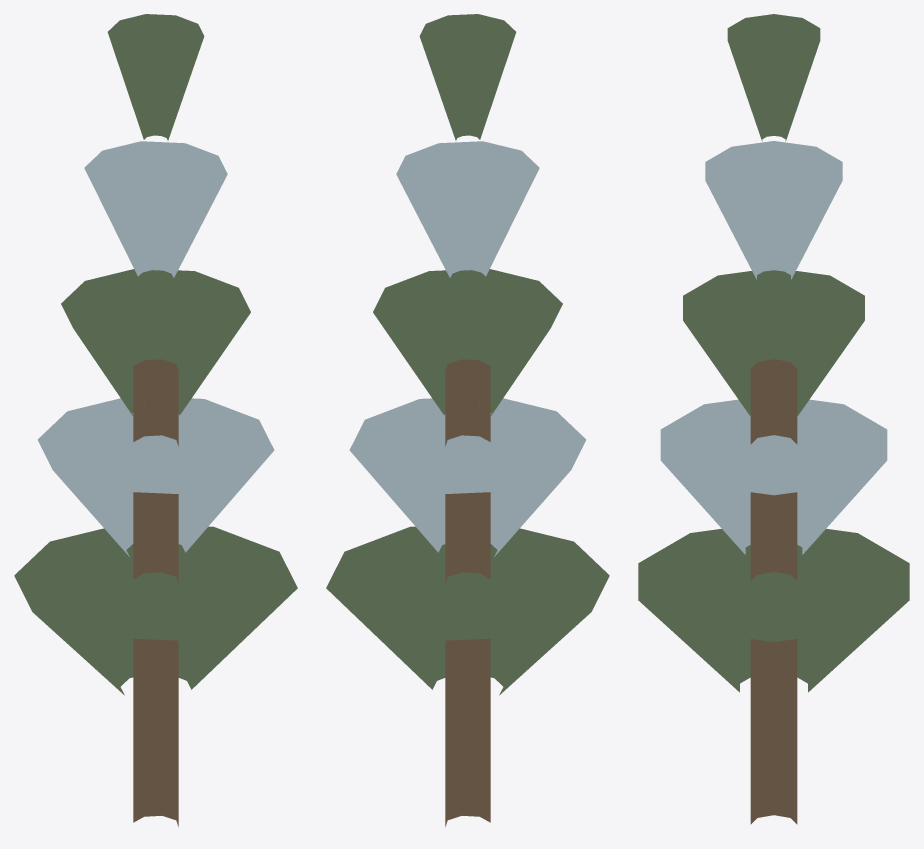
The model's file is p_tree_spruce.glb.
3 renders of one model, left to right at view 1: azimuth 30°, elevation 25°; view 2: azimuth 150°, elevation 25°; view 3: azimuth 270°, elevation 25°, orthographic.
Parts seen in each view (by area): view 1: body; view 2: body; view 3: body.
Part boxes in pixels (x1,y1,x2,y2): body: (14,14,297,826); body: (326,14,609,826); body: (638,14,909,824).
Size of the model in its own units: 3.4 by 10.4 by 3.23.
